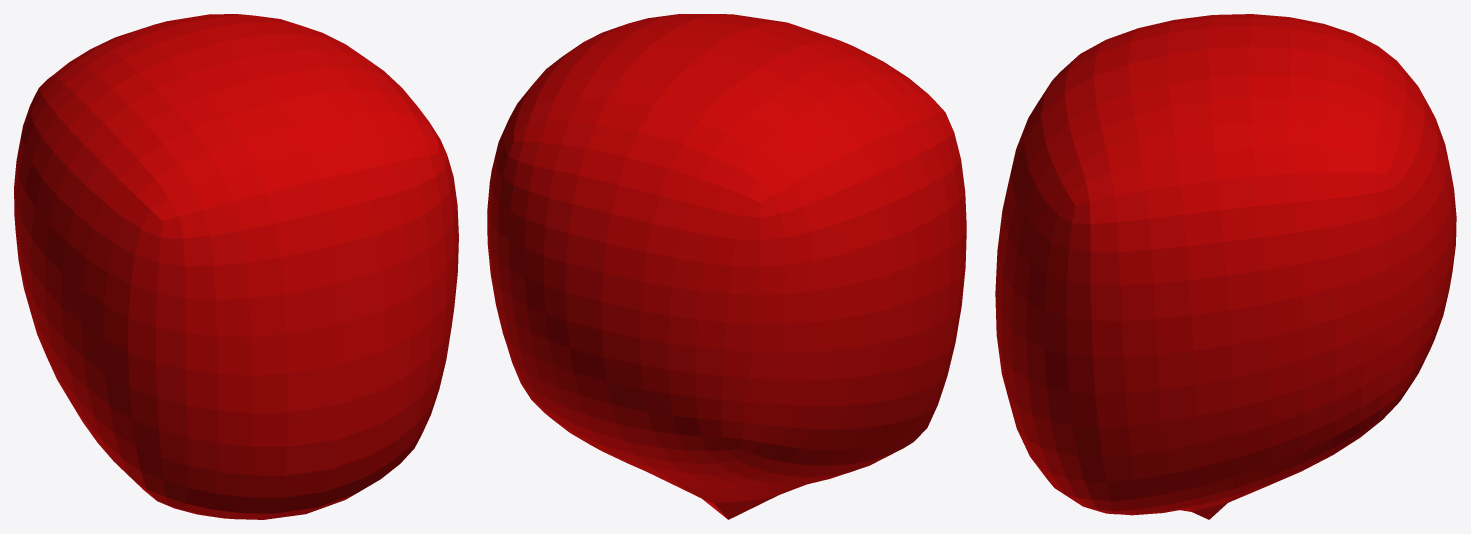
The model's file is head.obj.
3 views of the same model, side by side, from view 1: azimuth 30°, elevation 25°; view 2: azimuth 150°, elevation 25°; view 3: azimuth 270°, elevation 25° (orthographic). The views are drawn at different scales.
Visible parts, largest first — view 1: head; view 2: head; view 3: head.
Part boxes in pixels (bbox=[...]): head: bbox=[14, 14, 458, 519]; head: bbox=[487, 14, 966, 519]; head: bbox=[995, 14, 1456, 519].
Bounding box in the file's own units: 1.71 × 2 × 1.76.
